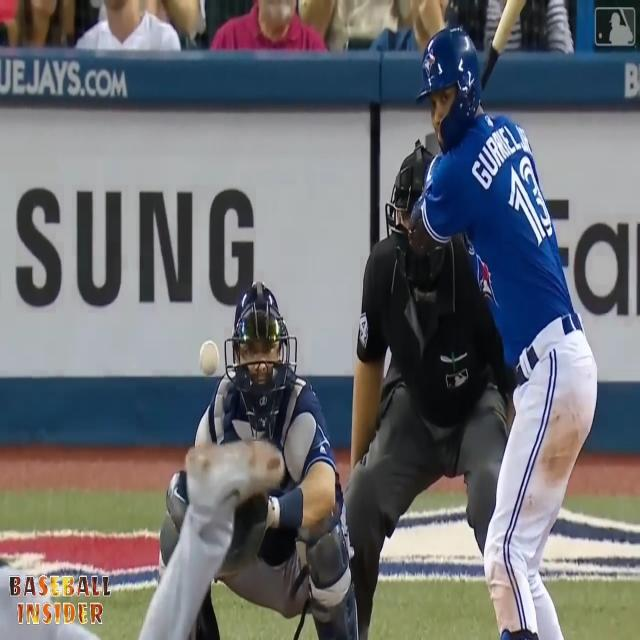baseball: (198, 340, 220, 376)
